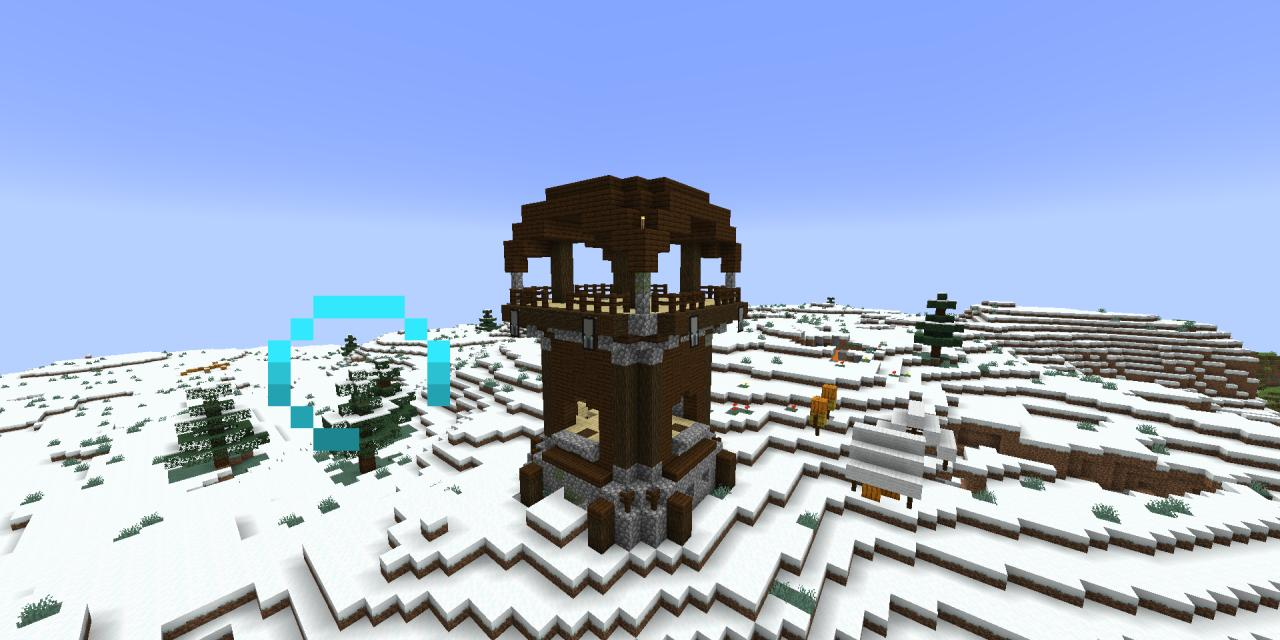pillager outpost: (494, 163, 756, 566)
